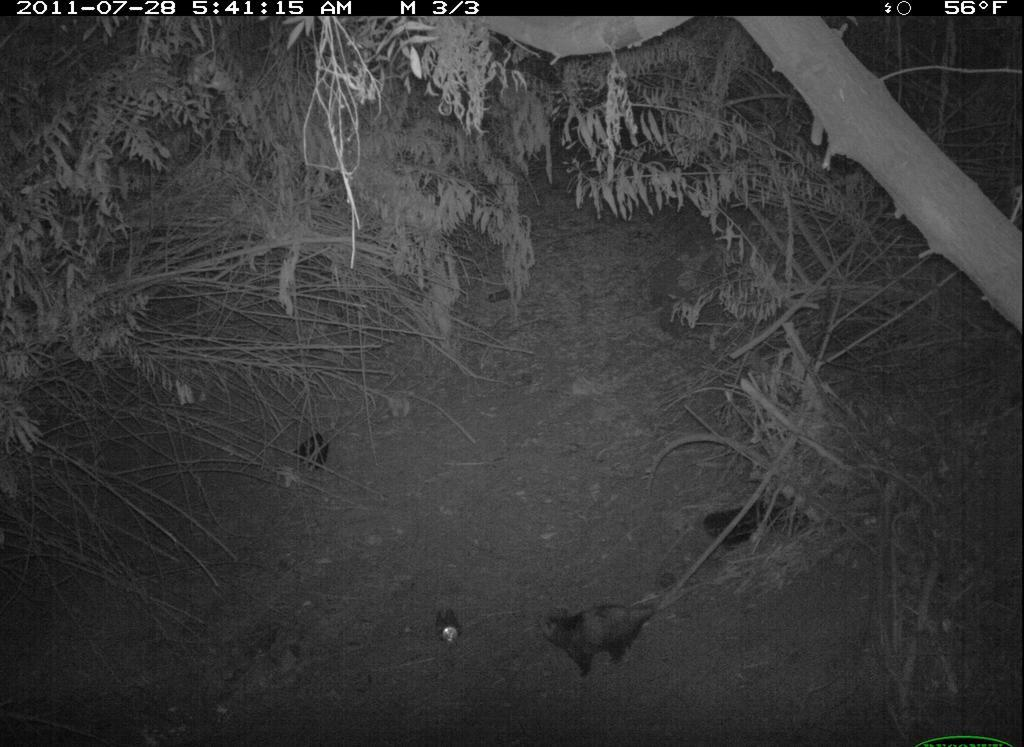opossum: (533, 592, 692, 679)
